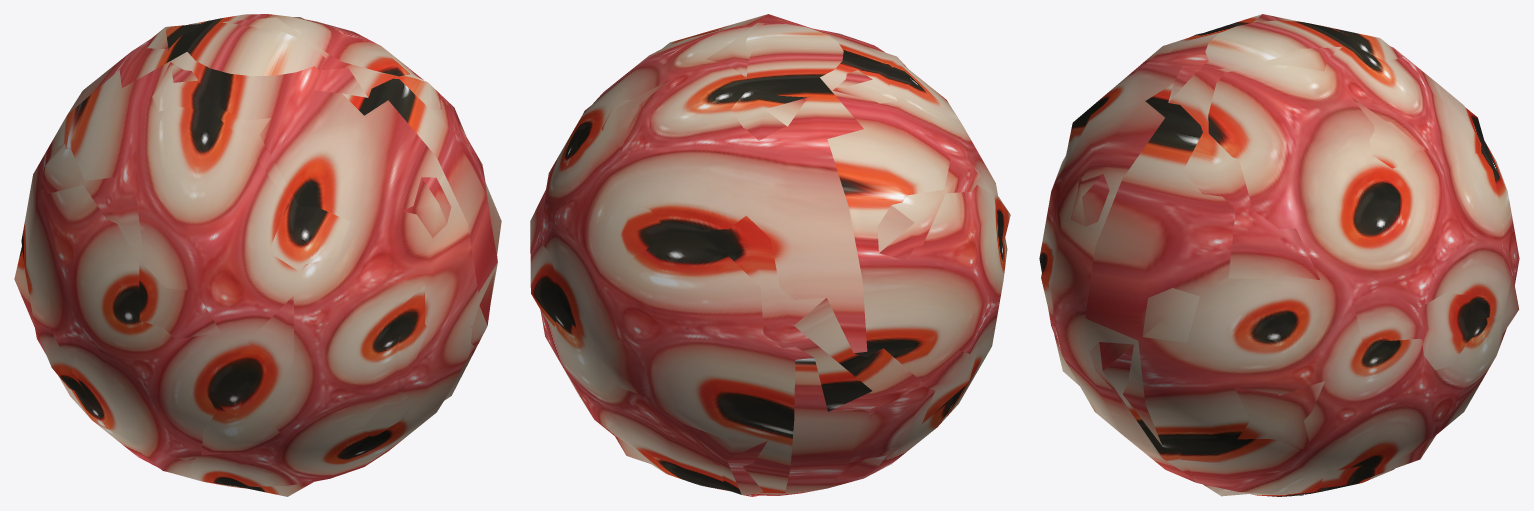
File: eye_basic.fbx
The picture shows the model from 3 angles, left to right: view 1: azimuth 30°, elevation 25°; view 2: azimuth 150°, elevation 25°; view 3: azimuth 270°, elevation 25°; orthographic projection.
Parts seen in each view (by area): view 1: eye_basic_VIS, eye_basic_COL; view 2: eye_basic_VIS, eye_basic_COL; view 3: eye_basic_VIS, eye_basic_COL.
Boxes of the visible parts, x1,y1,x2,y2 form: eye_basic_VIS: (21, 14, 497, 488); eye_basic_COL: (14, 17, 501, 496); eye_basic_VIS: (538, 23, 1007, 495); eye_basic_COL: (530, 14, 1010, 496); eye_basic_VIS: (1039, 20, 1519, 496); eye_basic_COL: (1041, 14, 1519, 496).
Size of the model in its own units: 32 by 32.12 by 32.
